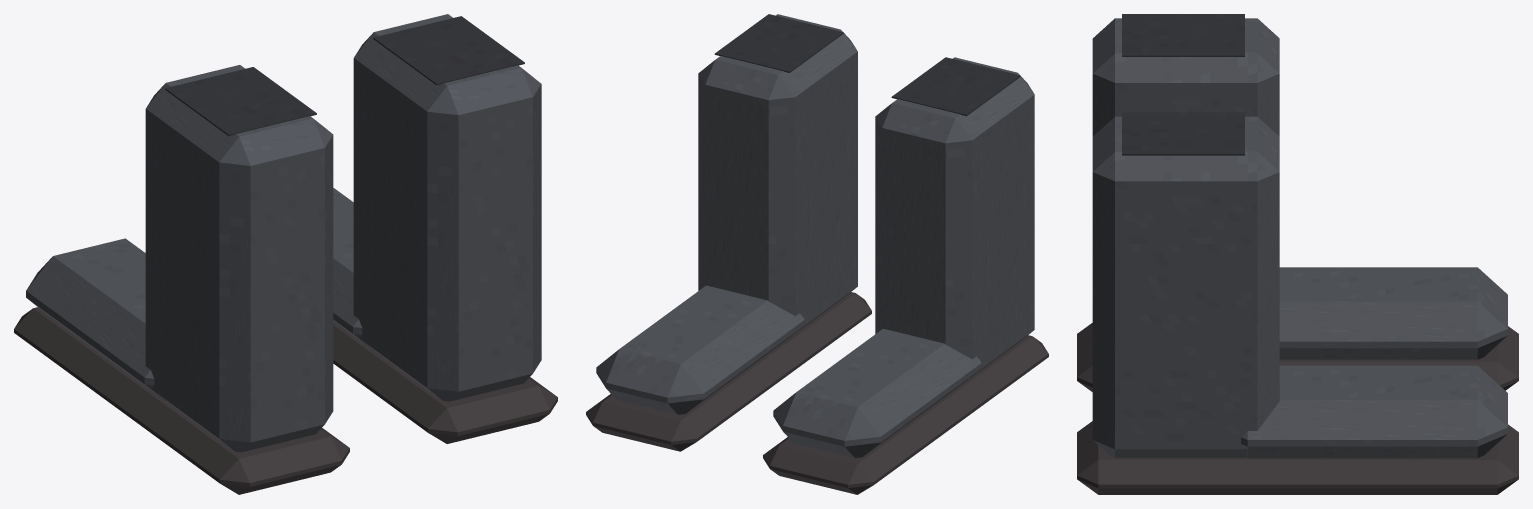
Rendered from thigh_high_boots.glb.
The picture shows the model from 3 angles, left to right: view 1: azimuth 30°, elevation 25°; view 2: azimuth 150°, elevation 25°; view 3: azimuth 270°, elevation 25°; orthographic projection. The views are drawn at different scales.
Parts seen in each view (by area): view 1: block_shaft (×2), block_shaped sole (×2), block_vamp and toe (×2), block_opening (×2); view 2: block_shaft (×2), block_vamp and toe (×2), block_shaped sole (×2), block_opening (×2); view 3: block_shaft (×2), block_vamp and toe (×2), block_shaped sole (×2), block_opening (×2).
Part boxes in pixels (bbox=[...]): block_shaft (×2): bbox=[145, 14, 541, 452]; block_shaped sole (×2): bbox=[14, 307, 557, 494]; block_vamp and toe (×2): bbox=[26, 188, 374, 401]; block_opening (×2): bbox=[165, 16, 524, 135]; block_shaft (×2): bbox=[698, 14, 1034, 377]; block_vamp and toe (×2): bbox=[596, 285, 981, 457]; block_shaped sole (×2): bbox=[586, 292, 1048, 494]; block_opening (×2): bbox=[714, 14, 1020, 116]; block_shaft (×2): bbox=[1092, 18, 1279, 457]; block_vamp and toe (×2): bbox=[1241, 267, 1507, 458]; block_shaped sole (×2): bbox=[1077, 323, 1518, 494]; block_opening (×2): bbox=[1122, 14, 1244, 155].
Bounding box in the file's own units: 0.2747 × 0.2724 × 0.3207.
Materials: 1 (1 with a texture image).
